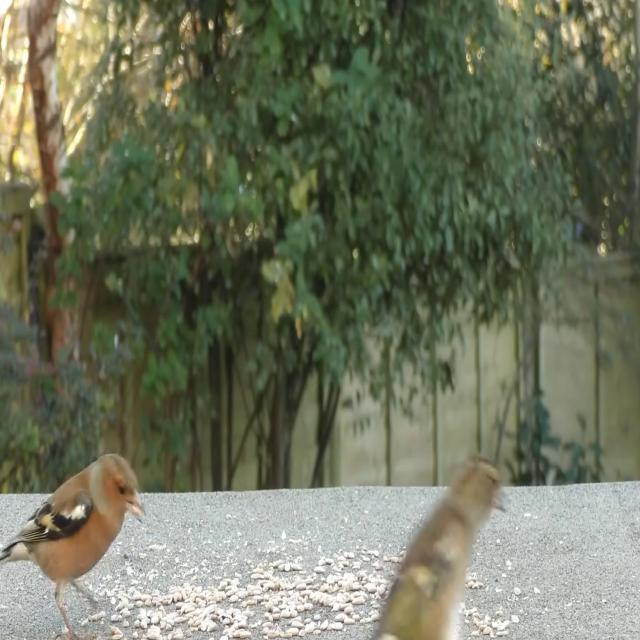beak: (125, 486, 146, 522), (493, 483, 511, 517)
bird: (0, 447, 144, 640), (369, 456, 509, 640)
